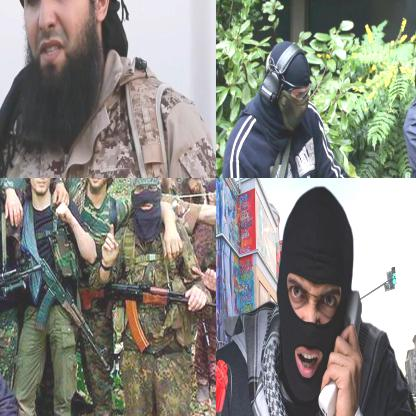rifle: (25, 249, 109, 374), (103, 278, 215, 355), (0, 258, 49, 329)
